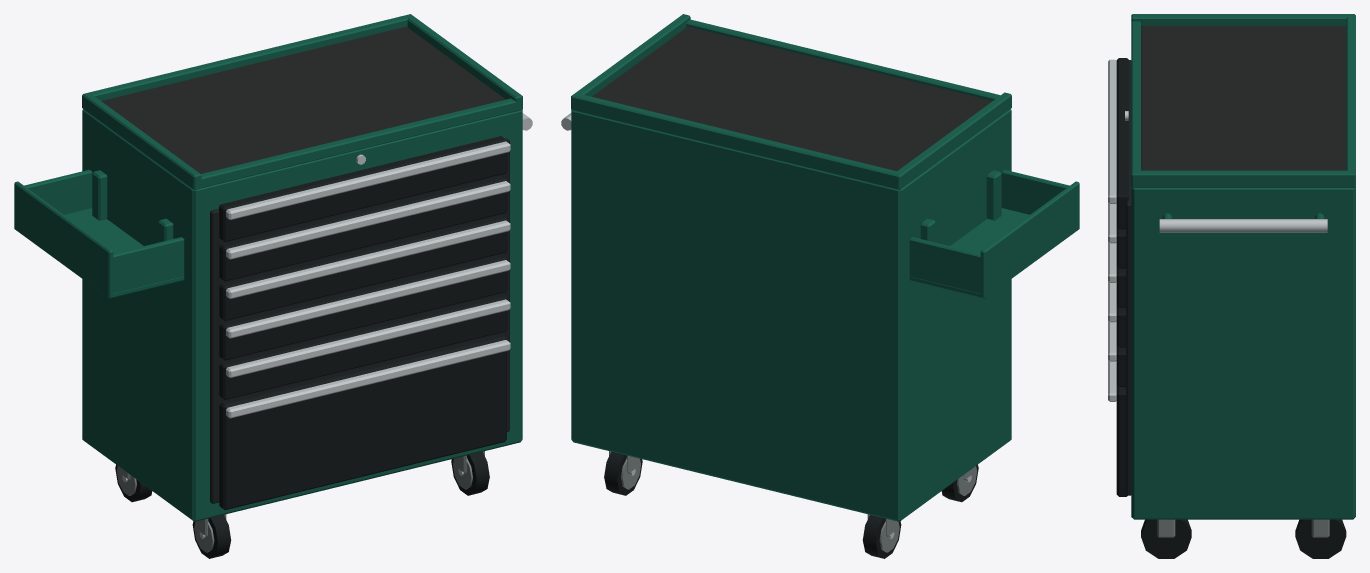
The model's file is lod2_source.glb.
3 renders of one model, left to right at view 1: azimuth 30°, elevation 25°; view 2: azimuth 150°, elevation 25°; view 3: azimuth 270°, elevation 25°, orthographic.
Visible parts, largest first — view 1: Green enclosed cabinet body, Rubber top work mat, Deep lower black drawer, Shallow black drawer 01, Shallow black drawer 04, Shallow black drawer 02, Shallow black drawer 03, Shallow black drawer 05, Black recessed drawer surround, Left side tray outer wall, Front top rim, Raised back top rim (+14 smaller); view 2: Green enclosed cabinet body, Rubber top work mat, Raised back top rim, Left side tray outer wall, Left side tray end wall.001, Front top rim, Raised side rim -0.379, Left side tray floor, Left side tray end wall, Raised side rim 0.379, Caster rubber tyre.003, Caster rubber tyre.001 (+1 smaller); view 3: Green enclosed cabinet body, Rubber top work mat, Raised side rim 0.379, Raised side rim -0.379, Silver right push handle, Black recessed drawer surround, Shallow black drawer 01, Raised back top rim, Front top rim, Caster rubber tyre.003, Caster rubber tyre.002, Aluminium full width pull 01 (+12 smaller).
Part boxes in pixels (x1,y1,x2,y2): Green enclosed cabinet body: (82, 109, 522, 521); Rubber top work mat: (101, 26, 505, 173); Deep lower black drawer: (219, 334, 506, 509); Shallow black drawer 01: (219, 136, 507, 241); Shallow black drawer 04: (219, 254, 507, 360); Shallow black drawer 02: (219, 175, 507, 281); Shallow black drawer 03: (219, 215, 507, 320); Shallow black drawer 05: (219, 294, 507, 399); Black recessed drawer surround: (210, 138, 509, 503); Left side tray outer wall: (14, 181, 113, 296); Front top rim: (200, 98, 516, 188); Raised back top rim: (89, 15, 407, 100); Green enclosed cabinet body: (571, 109, 1011, 521); Rubber top work mat: (592, 26, 992, 170); Raised back top rim: (577, 94, 896, 188); Left side tray outer wall: (980, 181, 1079, 296); Left side tray end wall.001: (909, 237, 987, 293); Front top rim: (686, 19, 1000, 100); Raised side rim -0.379: (893, 92, 1011, 190); Left side tray floor: (909, 208, 1079, 298); Left side tray end wall: (1001, 169, 1069, 214); Raised side rim 0.379: (571, 14, 690, 111); Caster rubber tyre.003: (604, 451, 642, 495); Caster rubber tyre.001: (862, 515, 901, 558); Green enclosed cabinet body: (1131, 187, 1355, 519); Rubber top work mat: (1141, 25, 1346, 170); Raised side rim 0.379: (1131, 170, 1355, 188); Raised side rim -0.379: (1131, 14, 1355, 25); Silver right push handle: (1159, 219, 1327, 232); Black recessed drawer surround: (1126, 60, 1131, 495); Shallow black drawer 01: (1116, 58, 1128, 229); Raised back top rim: (1346, 17, 1355, 171); Front top rim: (1131, 21, 1140, 171); Caster rubber tyre.003: (1295, 519, 1346, 558); Caster rubber tyre.002: (1141, 519, 1191, 558); Aluminium full width pull 01: (1108, 59, 1116, 203).
Bounding box in the file's own units: 1.01 × 0.9015 × 0.5075.
